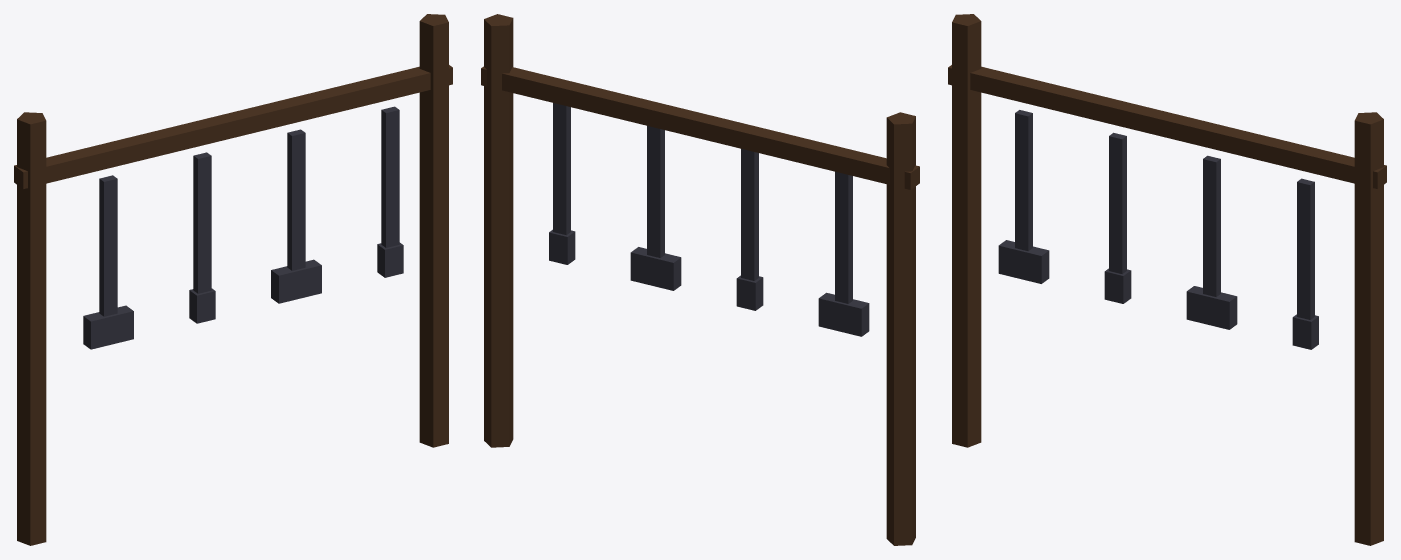
Rendered from prop_tool_rack.glb.
The picture shows the model from 3 angles, left to right: view 1: azimuth 30°, elevation 25°; view 2: azimuth 150°, elevation 25°; view 3: azimuth 330°, elevation 25°; orthographic projection.
Visible parts, largest first — view 1: prop_tool_rack; view 2: prop_tool_rack; view 3: prop_tool_rack.
Part boxes in pixels (x1,y1,x2,y2): prop_tool_rack: (14,14,452,545); prop_tool_rack: (481,14,919,545); prop_tool_rack: (948,14,1386,545).
Size of the model in its own units: 1.6 by 1.5 by 0.135.
